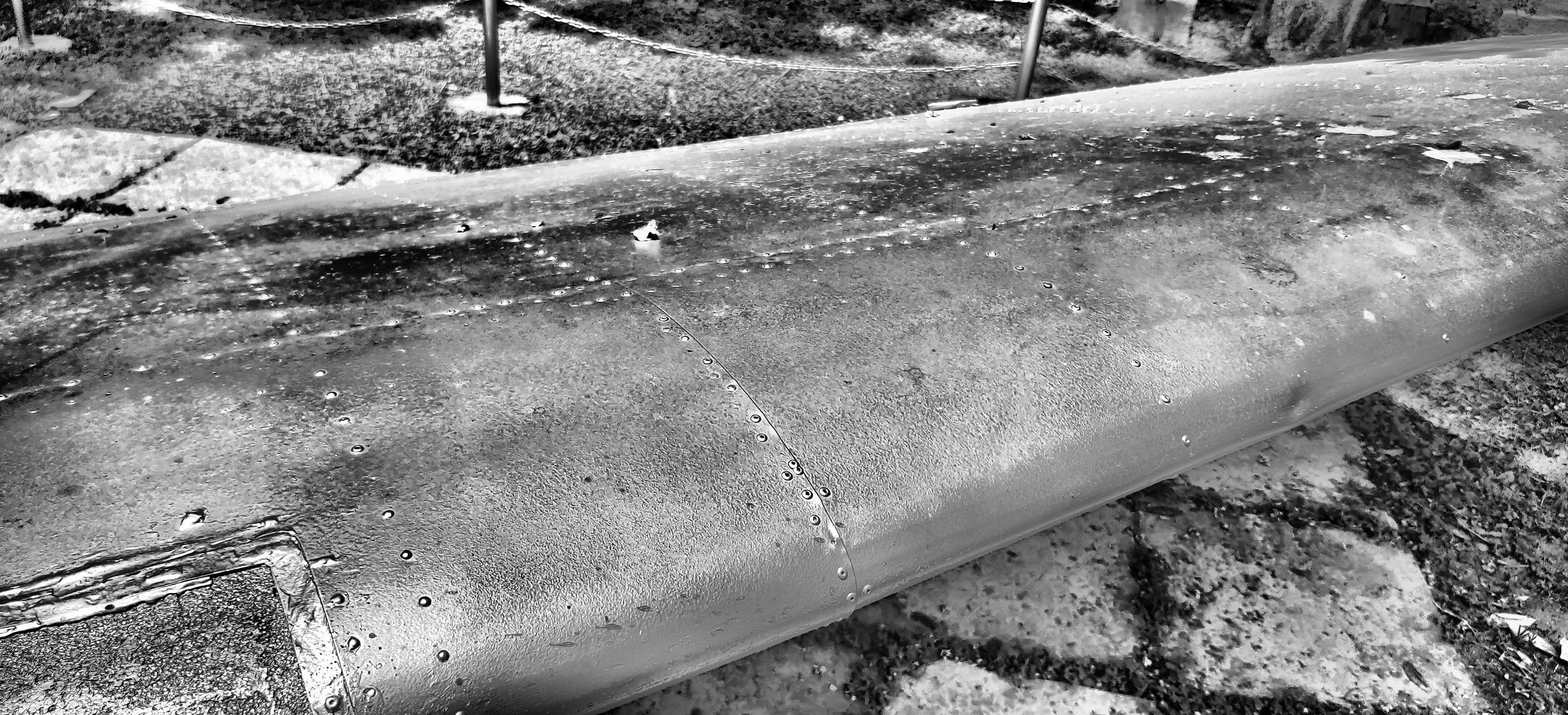dent: (1281, 382, 1313, 422)
scratch: (1154, 455, 1168, 471)
